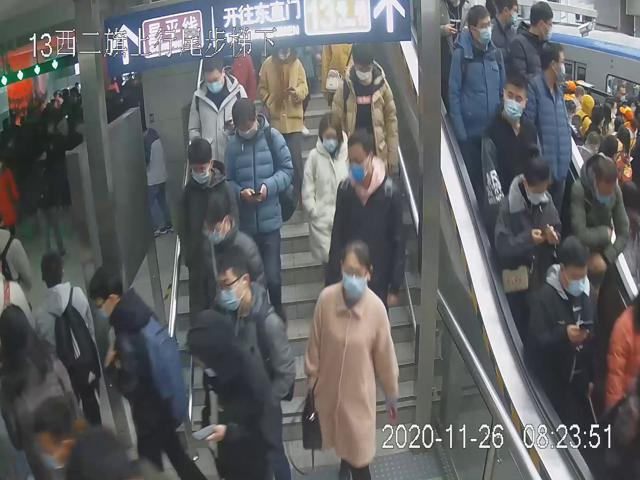person: (302, 239, 401, 480), (221, 97, 295, 327), (522, 230, 606, 424), (325, 128, 406, 313), (211, 245, 296, 405), (174, 136, 241, 332), (492, 143, 562, 315), (331, 40, 401, 188), (445, 4, 509, 162), (300, 111, 359, 280), (477, 64, 541, 215), (197, 197, 269, 323), (186, 52, 246, 170)
